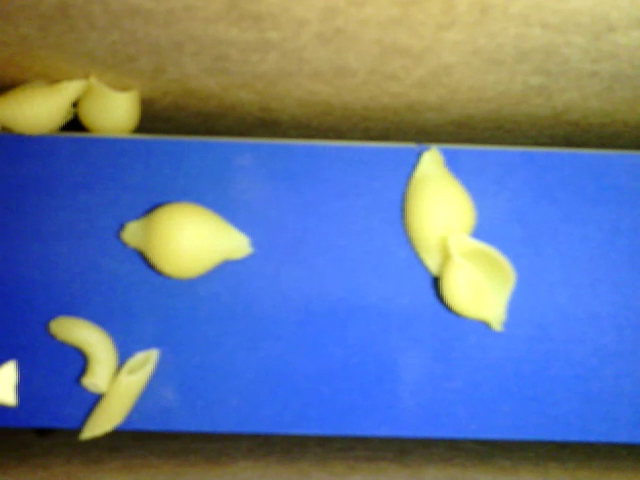elbow: (50, 317, 116, 391)
penne: (76, 348, 158, 440)
shell: (118, 200, 251, 280), (404, 145, 479, 275), (437, 228, 512, 331), (2, 75, 87, 132), (78, 78, 141, 135)
